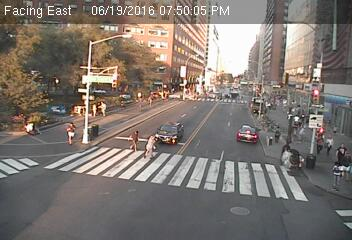neg: (269, 41, 296, 78), (17, 130, 40, 160), (293, 92, 312, 118), (235, 149, 253, 173), (18, 90, 34, 112), (77, 170, 93, 191), (59, 65, 75, 85), (217, 125, 232, 146), (167, 51, 182, 71), (100, 36, 114, 55), (281, 191, 294, 209), (199, 66, 212, 84), (248, 46, 261, 64), (185, 120, 198, 137), (44, 170, 56, 186), (255, 185, 265, 199), (130, 176, 139, 188), (192, 178, 200, 189), (226, 181, 234, 192), (193, 207, 199, 215)
pos: (140, 129, 163, 160), (328, 158, 350, 188), (123, 125, 143, 152), (62, 120, 80, 144), (335, 139, 351, 161), (338, 151, 351, 178), (311, 132, 327, 153), (324, 132, 338, 151), (96, 99, 109, 117), (89, 101, 102, 118), (272, 124, 284, 140), (144, 91, 156, 106), (331, 123, 341, 137)
